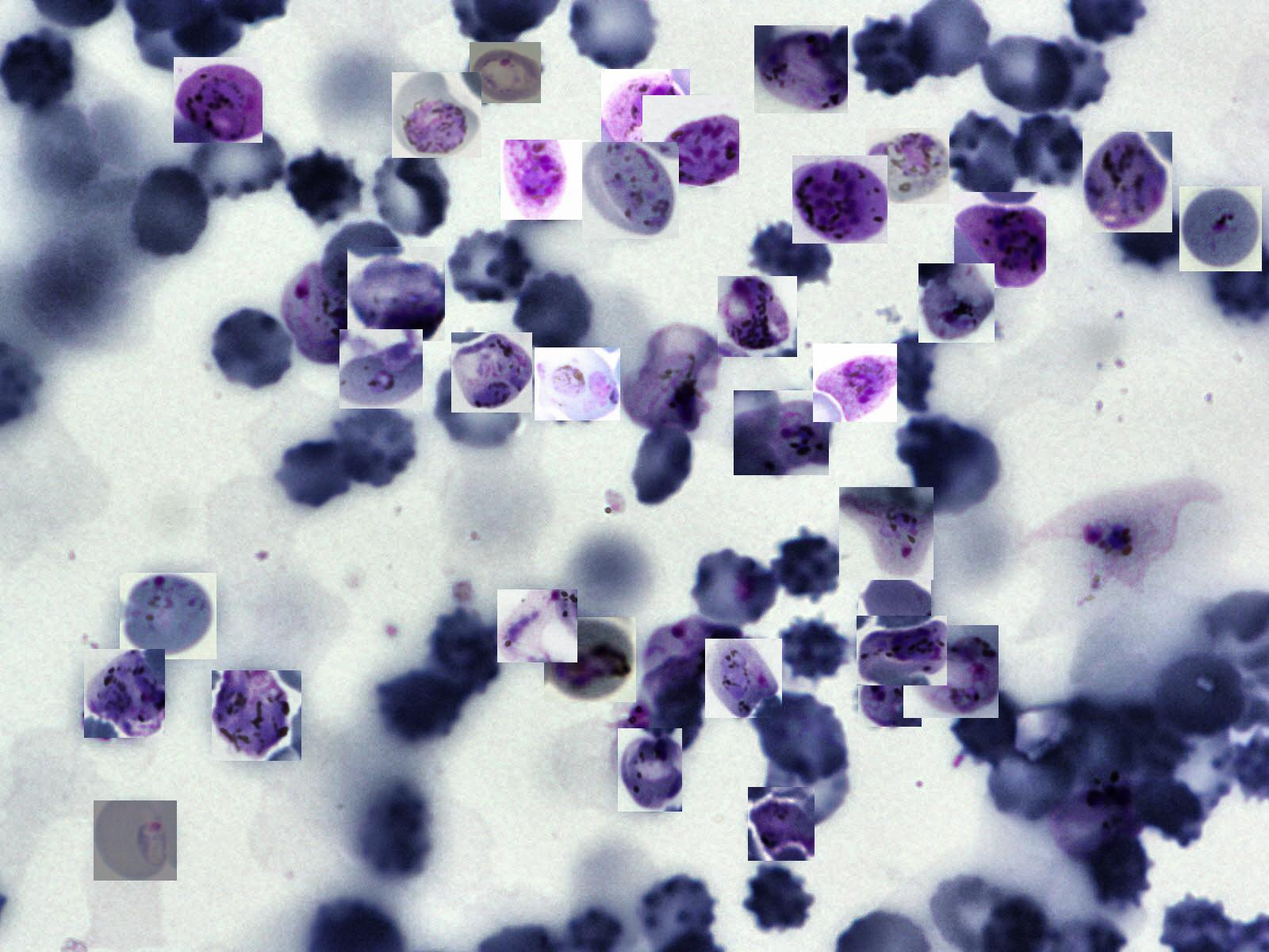Infected: (1049, 478, 1217, 590), (620, 322, 722, 437), (283, 258, 377, 363), (582, 142, 679, 239), (347, 247, 445, 341), (903, 625, 999, 718), (1083, 132, 1172, 232), (839, 487, 934, 580), (954, 192, 1046, 288), (642, 95, 739, 186), (1049, 772, 1144, 862), (792, 155, 888, 244), (120, 573, 217, 659), (754, 25, 848, 113), (601, 69, 690, 161), (212, 670, 301, 761), (734, 390, 829, 475), (544, 617, 636, 702), (642, 616, 742, 694), (392, 72, 481, 158), (174, 57, 263, 143), (84, 649, 165, 738), (1179, 186, 1262, 271), (500, 140, 588, 220), (94, 800, 177, 881), (339, 329, 423, 409), (451, 332, 532, 413), (813, 344, 897, 422), (858, 563, 931, 651), (718, 276, 797, 357), (865, 128, 949, 204), (857, 616, 947, 685), (535, 347, 620, 420), (918, 263, 995, 343), (705, 639, 782, 718), (497, 589, 577, 662), (618, 728, 682, 812), (748, 787, 815, 861), (858, 653, 922, 727), (470, 42, 541, 103)
Uninfected: (752, 689, 849, 783), (124, 164, 214, 263), (365, 144, 454, 241), (976, 32, 1078, 116), (432, 362, 525, 454), (911, 429, 1004, 517), (764, 736, 852, 827), (511, 269, 598, 360), (186, 117, 283, 197), (1152, 655, 1247, 736), (442, 226, 537, 305), (688, 549, 779, 631), (986, 743, 1079, 823), (424, 606, 505, 696), (328, 407, 417, 486), (374, 669, 470, 742), (359, 784, 431, 881), (945, 113, 1026, 199), (1033, 33, 1116, 115), (281, 148, 366, 228), (272, 434, 359, 512), (849, 17, 934, 96), (1009, 112, 1091, 192), (214, 305, 288, 393), (746, 219, 834, 290), (957, 205, 1038, 280), (950, 686, 1025, 766), (771, 528, 849, 604), (1110, 194, 1186, 272), (775, 615, 855, 689), (892, 411, 976, 478), (324, 229, 401, 299), (625, 426, 693, 504), (1089, 836, 1156, 913), (737, 869, 814, 932)
